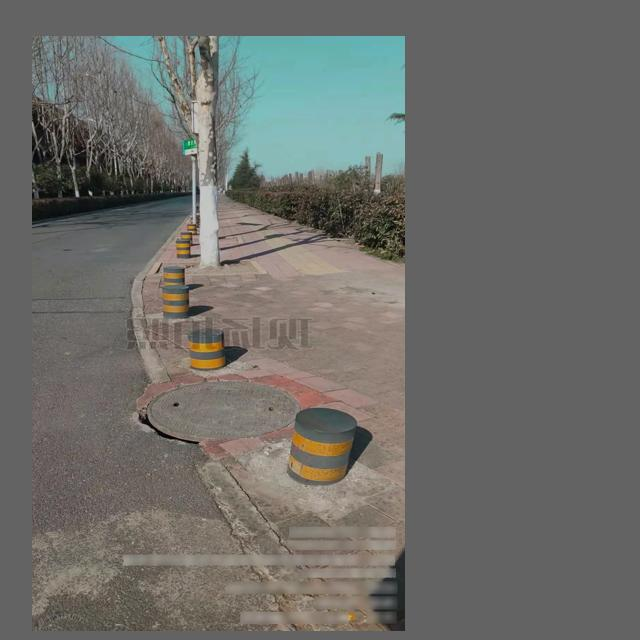circle: (135, 376, 304, 449)
